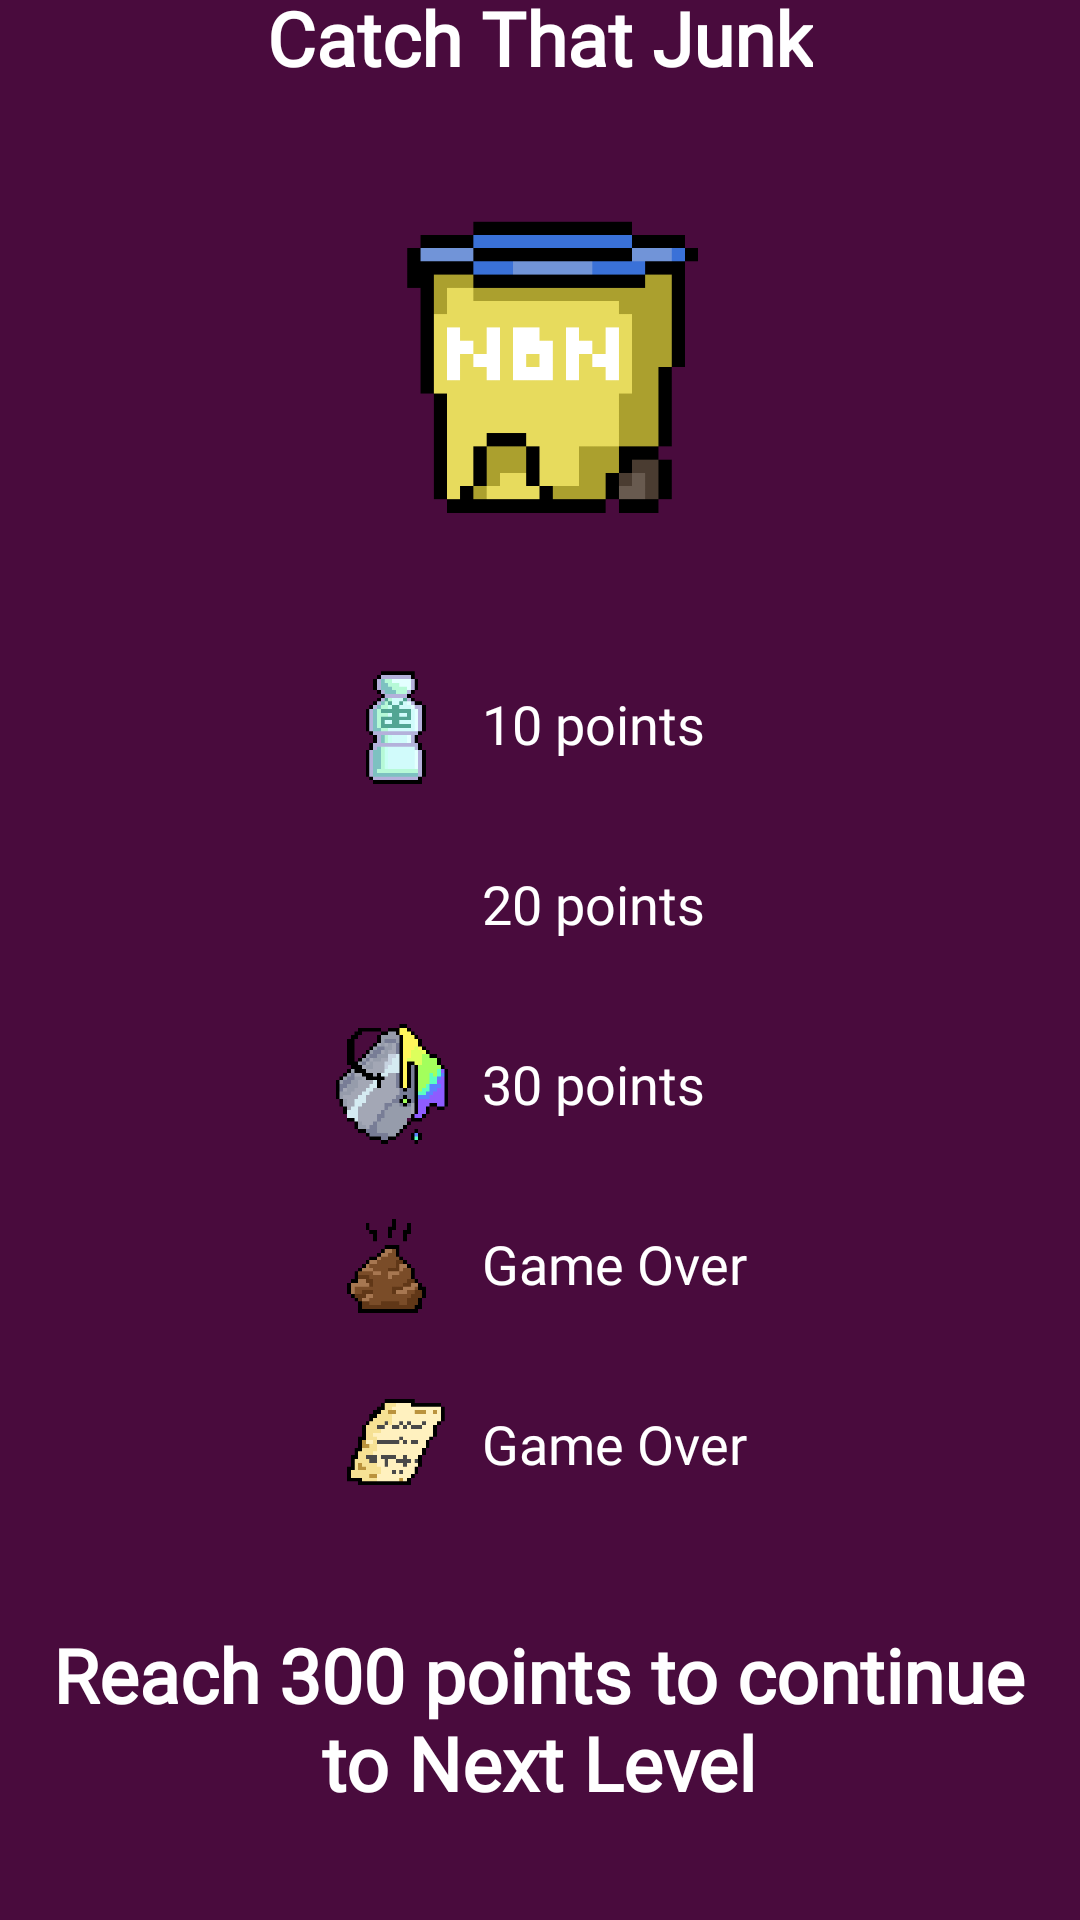

Icons on this 1080w x 1920h Android screen, each with the point to tap as (x,y):
non biodegradable: (552,367)
paint bucket: (392,1084)
paper: (396,1442)
plastic bottle: (396,727)
poop: (386,1266)
